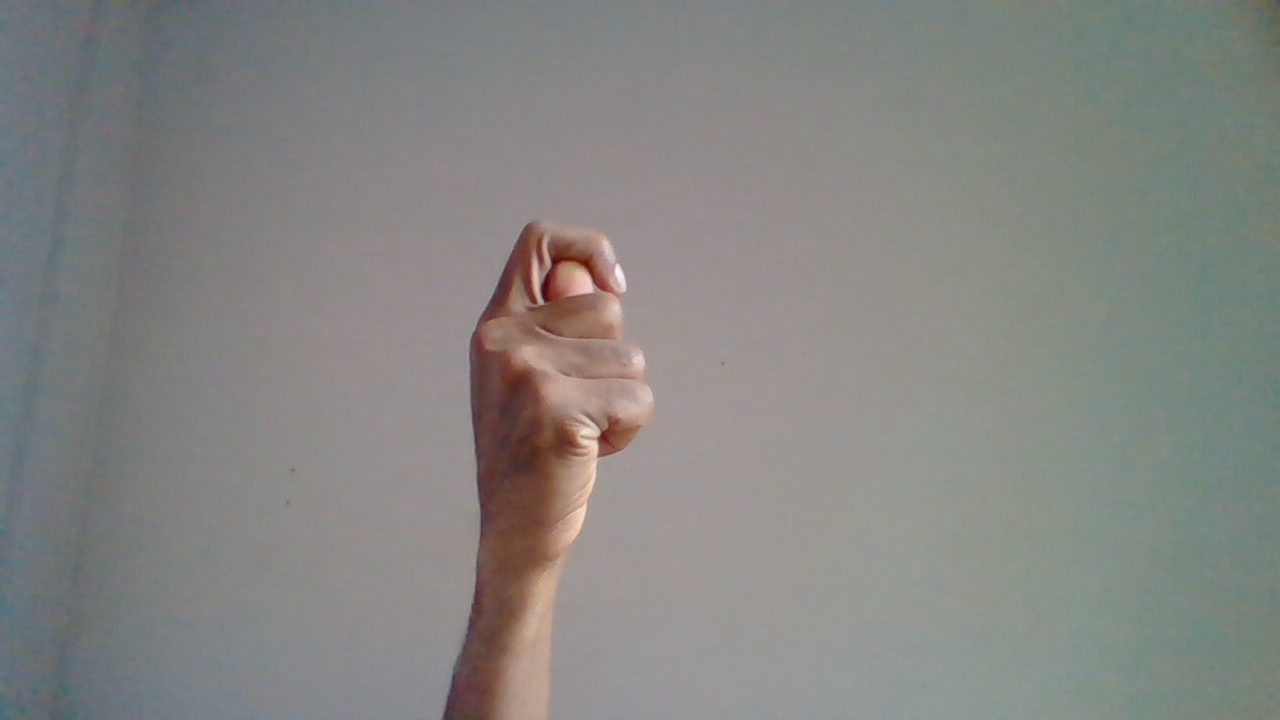che: (467, 204, 665, 720)
